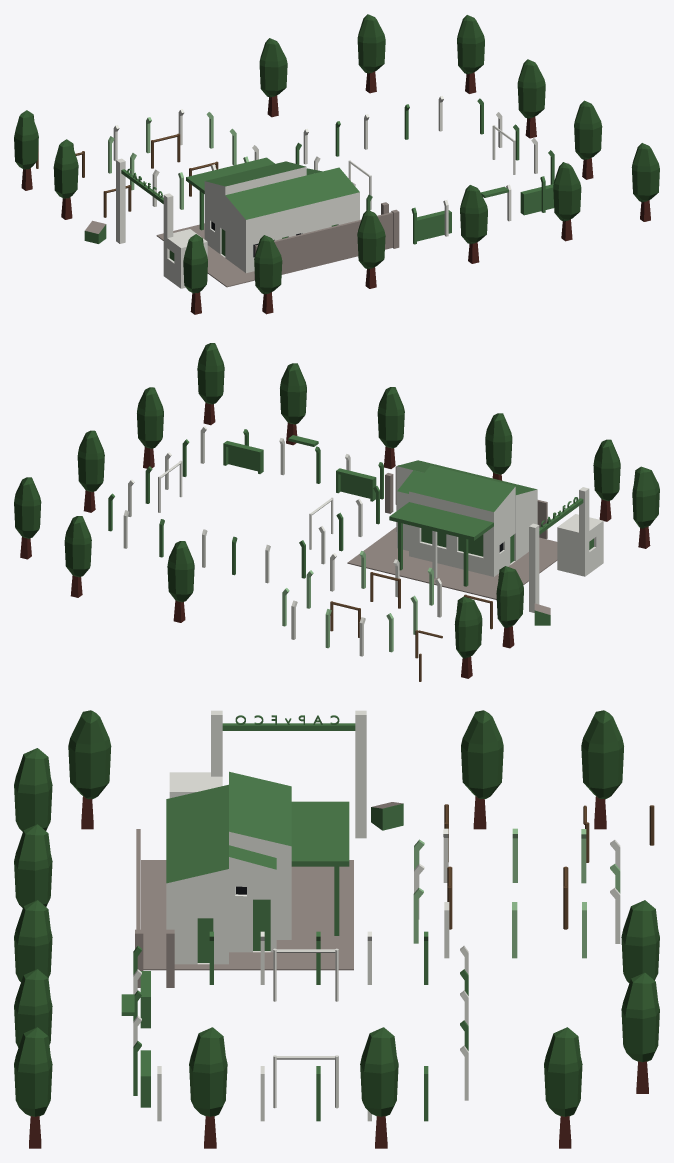
The model's file is clubAtleticoPast.gltf.
The picture shows the model from 3 angles, top to bottom: view 1: azimuth 30°, elevation 25°; view 2: azimuth 150°, elevation 25°; view 3: azimuth 270°, elevation 25°; orthographic projection. The views are drawn at different scales.
Parts seen in each view (by area): view 1: Vestuarios, Cube.017, Cantina, Pilar 2, PlantaCopa2.002, PlantaCopa4.004, PlantaCopa1.003, PlantaCopa4.008, PlantaCopa4.012, PlantaCopa1.001, PlantaCopa3.001, PlantaCopa4.006 (+10 smaller); view 2: Cantina, Playon cantina, Pilar 2, Techo cantina, Vestuarios, PlantaCopa1, PlantaCopa2, PlantaCopa2.004, PlantaCopa4.006, PlantaCopa1.001, PlantaCopa4.004, PlantaCopa4.012 (+10 smaller); view 3: Vestuarios, Playon cantina, Cantina, Utileria, Techo cantina, PlantaCopa2, PlantaCopa2.004, PlantaCopa1, PlantaCopa4.008, PlantaCopa4.006, PlantaCopa4.012, PlantaCopa4.010 (+11 smaller).
Boxes of the visible parts, <box> form: Vestuarios: <box>225,167,359,273</box>; Cube.017: <box>254,212,393,279</box>; Cantina: <box>204,161,306,257</box>; Pilar 2: <box>163,193,207,288</box>; PlantaCopa2.002: <box>254,235,282,294</box>; PlantaCopa4.004: <box>357,209,385,269</box>; PlantaCopa1.003: <box>553,162,581,221</box>; PlantaCopa4.008: <box>574,100,602,159</box>; PlantaCopa4.012: <box>517,59,545,118</box>; PlantaCopa1.001: <box>259,38,287,97</box>; PlantaCopa3.001: <box>357,14,385,73</box>; PlantaCopa4.006: <box>631,143,659,202</box>; Cantina: <box>409,465,515,576</box>; Playon cantina: <box>347,527,557,599</box>; Pilar 2: <box>557,487,603,576</box>; Techo cantina: <box>389,502,493,540</box>; Vestuarios: <box>396,460,537,560</box>; PlantaCopa1: <box>496,566,523,628</box>; PlantaCopa2: <box>454,596,482,658</box>; PlantaCopa2.004: <box>632,466,659,528</box>; PlantaCopa4.006: <box>197,343,224,404</box>; PlantaCopa1.001: <box>167,541,194,602</box>; PlantaCopa4.004: <box>485,413,512,474</box>; PlantaCopa4.012: <box>77,430,104,492</box>; Vestuarios: <box>166,784,228,964</box>; Playon cantina: <box>141,860,353,970</box>; Cantina: <box>229,771,291,939</box>; Utileria: <box>229,845,276,952</box>; Techo cantina: <box>291,801,349,866</box>; PlantaCopa2: <box>581,710,623,799</box>; PlantaCopa2.004: <box>68,710,111,799</box>; PlantaCopa1: <box>461,710,503,798</box>; PlantaCopa4.008: <box>189,1027,227,1116</box>; PlantaCopa4.006: <box>14,1027,52,1116</box>; PlantaCopa4.012: <box>360,1027,398,1116</box>; PlantaCopa4.010: <box>544,1027,582,1116</box>.
Size of what is drawn, in the model's own units: 13.69 by 2.37 by 11.11.
